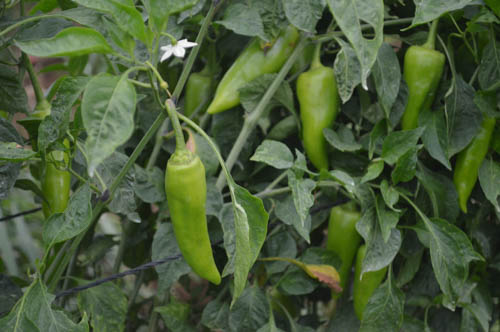ChiliPepper: (204, 27, 296, 122), (166, 161, 222, 283), (398, 47, 445, 160), (32, 112, 73, 232), (299, 69, 341, 177), (458, 113, 494, 219), (325, 208, 357, 300), (355, 245, 383, 321), (184, 73, 210, 119)
